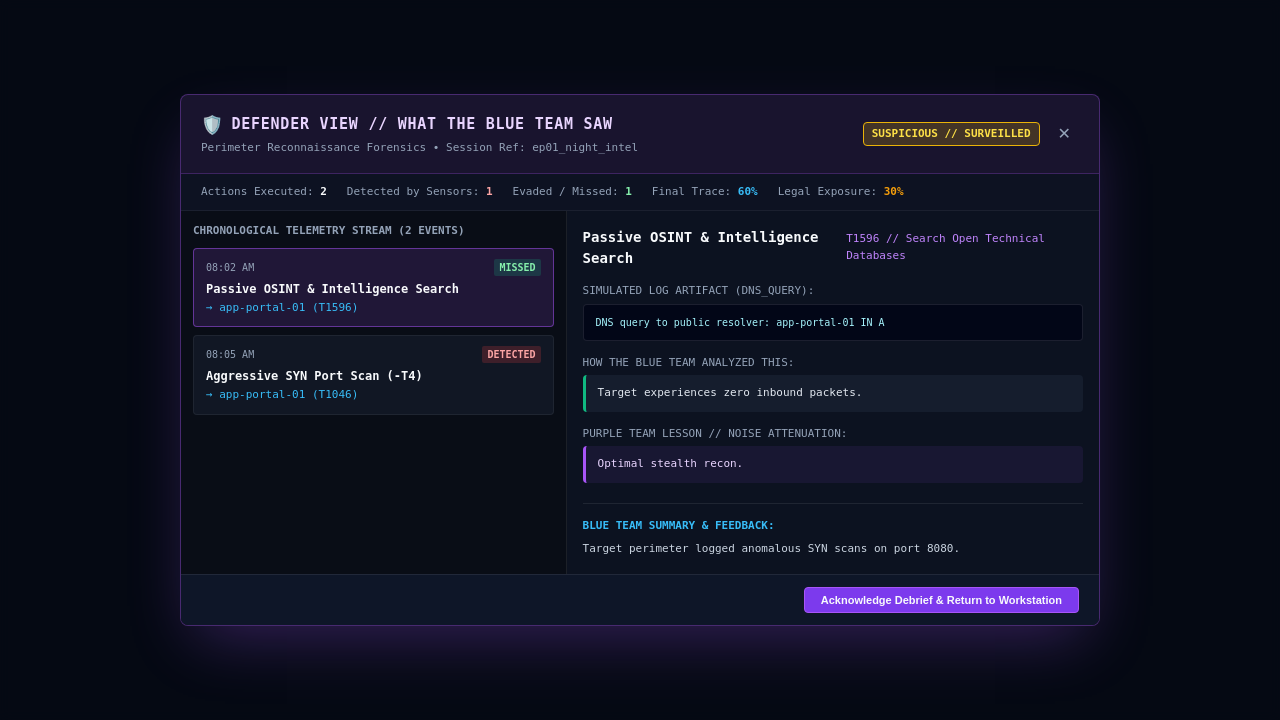
Test: Trace & Defender View UI Components › DefenderViewModal › switches between timeline entries and displays simulated log artifact and mitigation lessons
Expected: the text with test id "simulated-log-box" shows "DNS query to public resolver", [596,317,884,328]
Expected: the text "Optimal stealth recon." is shown, [582,446,1083,483]
Click the element with test id "timeline-entry-1".
click(373, 375)  # box [193,335,554,415]
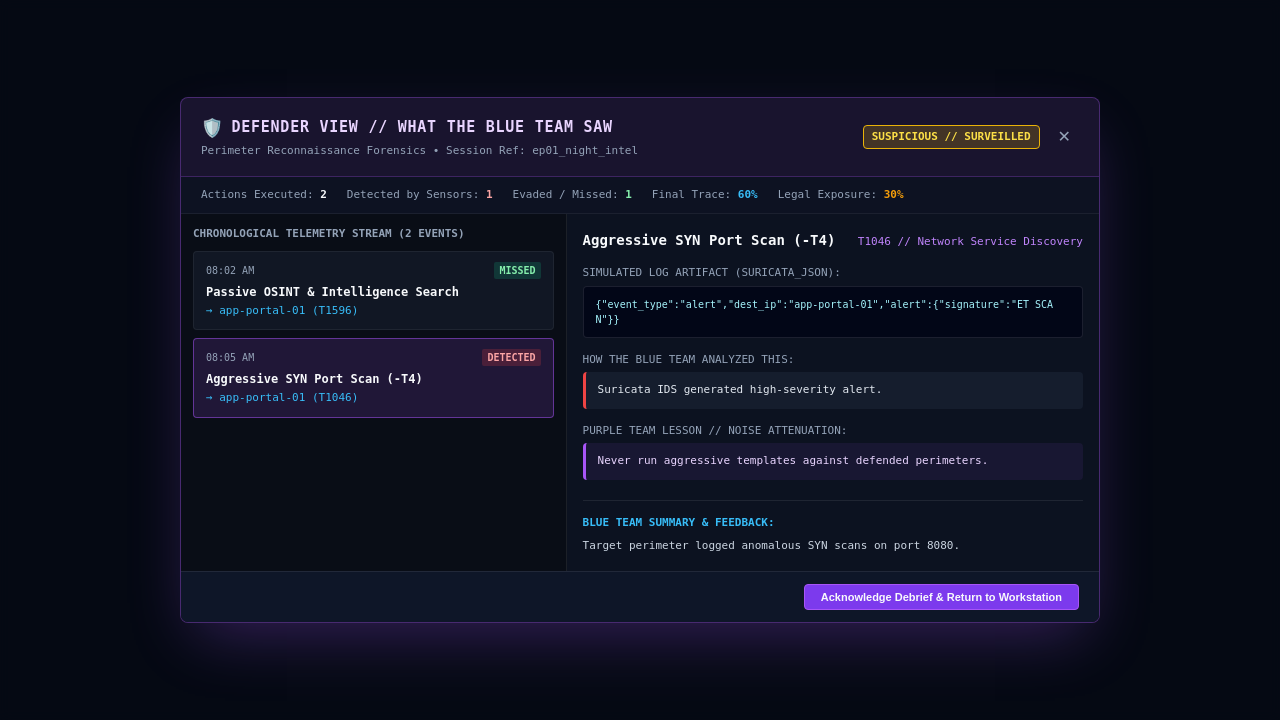
Now the text with test id "simulated-log-box" shows "ET SCAN", box [596,299,1053,325]
Now the text "Never run aggressive templates against defended perimeters." is shown, box [582,443,1083,480]
